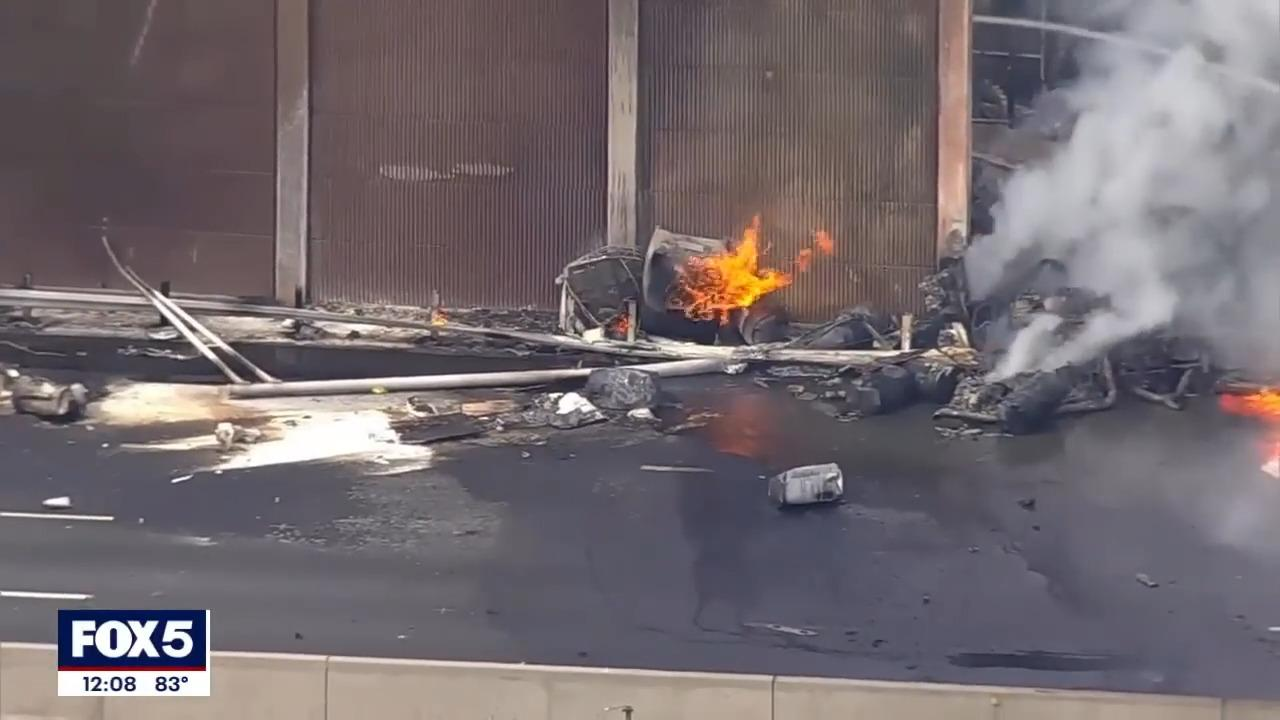fire: (709, 219, 837, 316)
